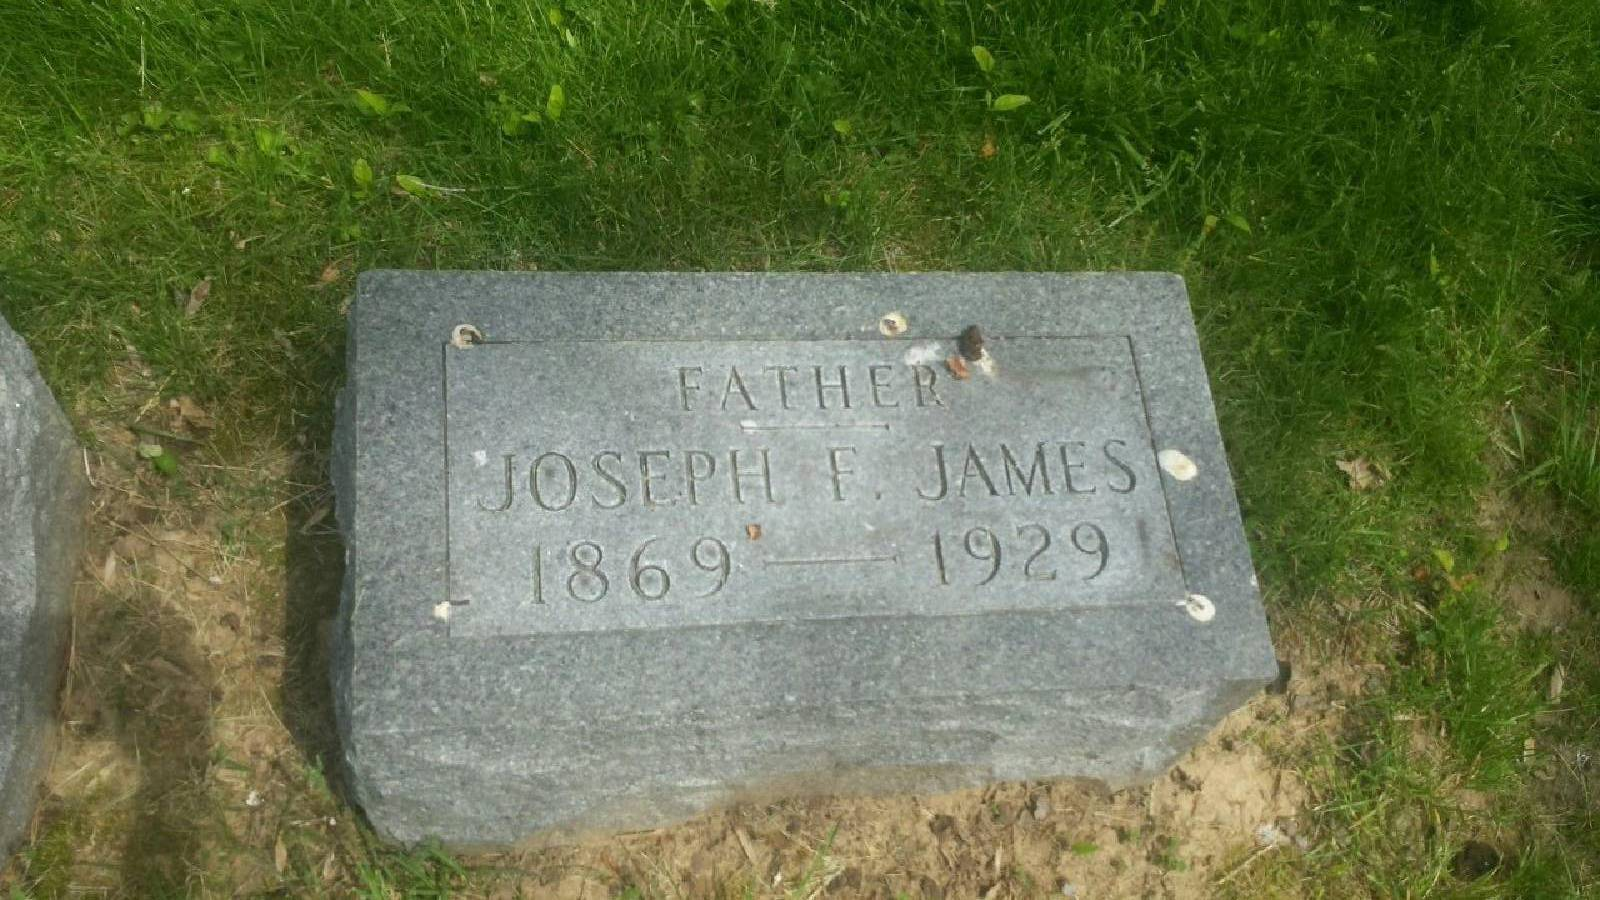flat: (348, 259, 1284, 841)
